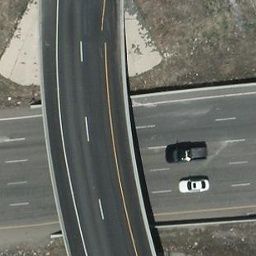car: (168, 144, 208, 164), (180, 177, 209, 194)
